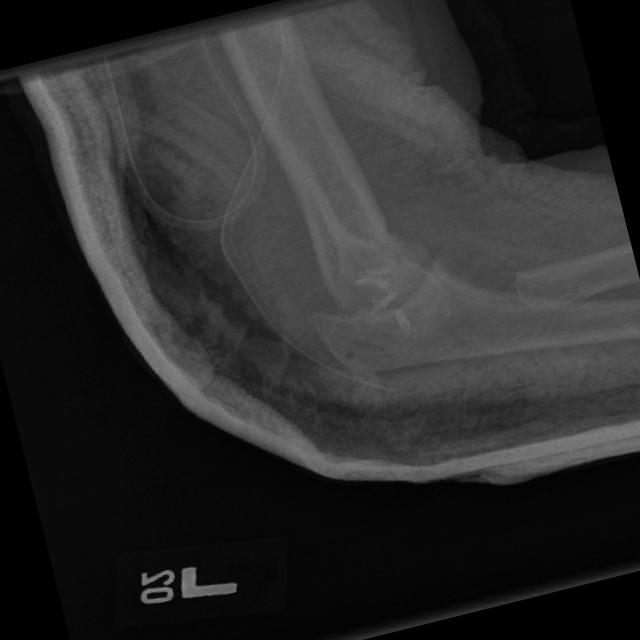elbow positive: (276, 268, 393, 373)
